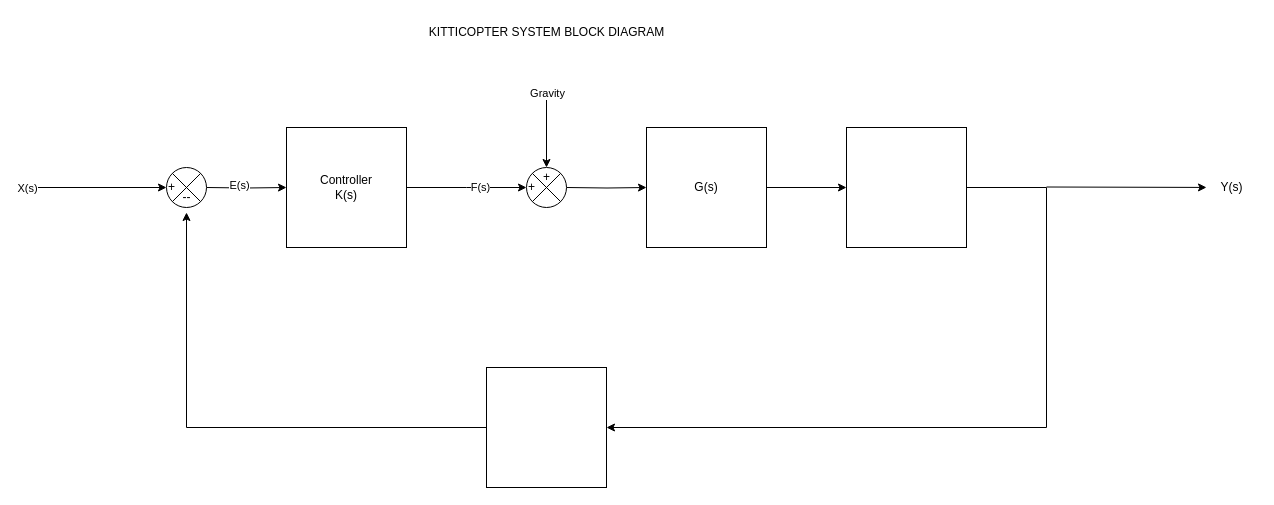
Image size: 1274x505. Some labels were removed from this diagram. Each missing label, with the centre of its shape:
Feedback Sensor H(s): (546,427)
Integrator k/s: (906,187)
